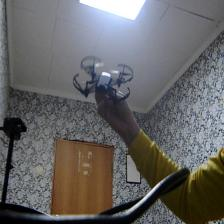drone: (70, 50, 138, 105)
